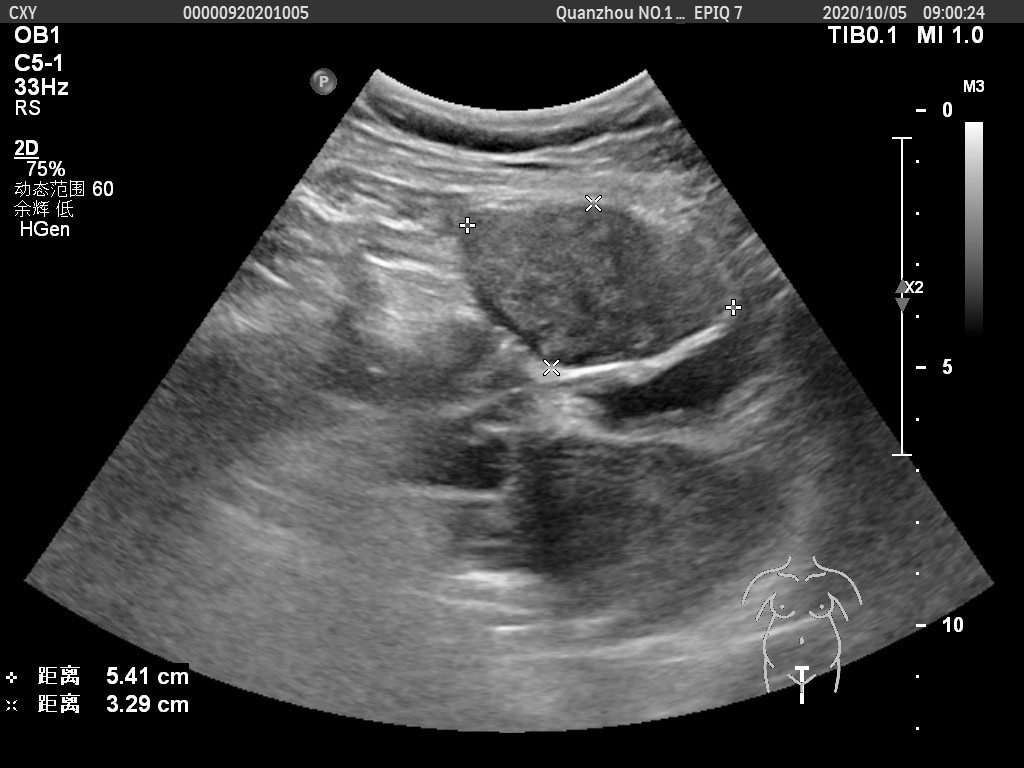肌瘤: (467, 205, 737, 366)
